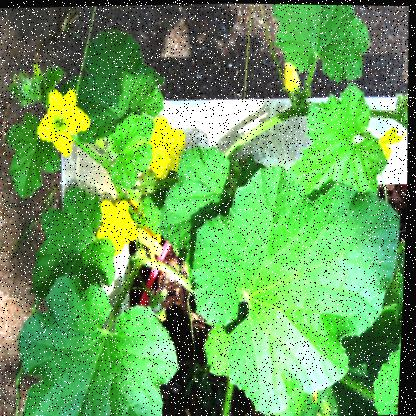Normal: (193, 170, 410, 415), (17, 286, 190, 415), (24, 180, 126, 308), (71, 24, 171, 142)
